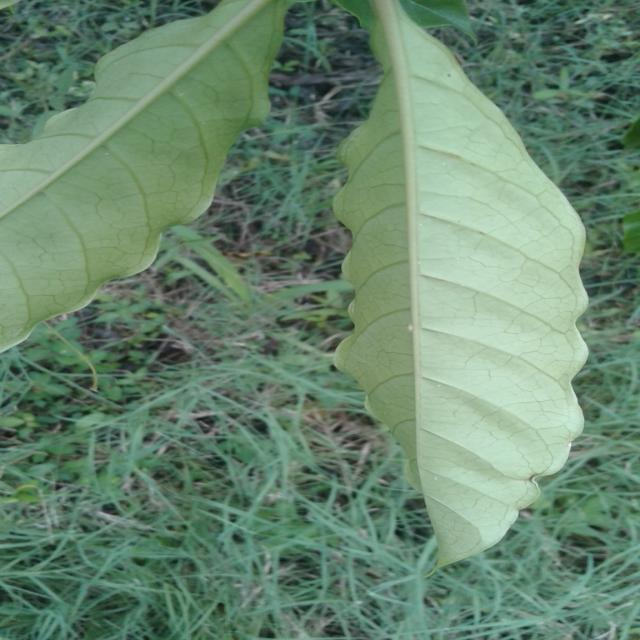Sanas: (333, 0, 589, 570)
